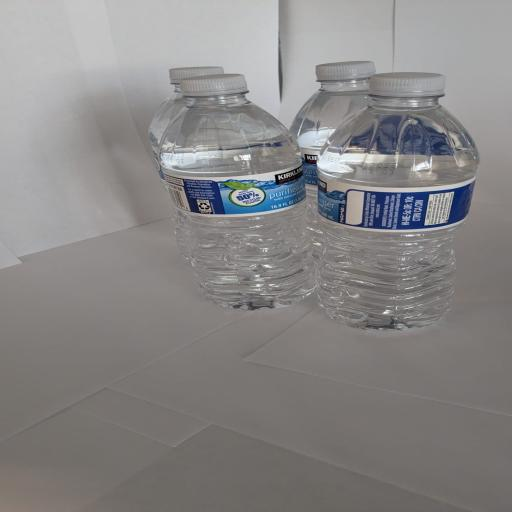waterbottle: (318, 73, 479, 329), (159, 75, 315, 309), (291, 61, 375, 259), (149, 67, 223, 189)
